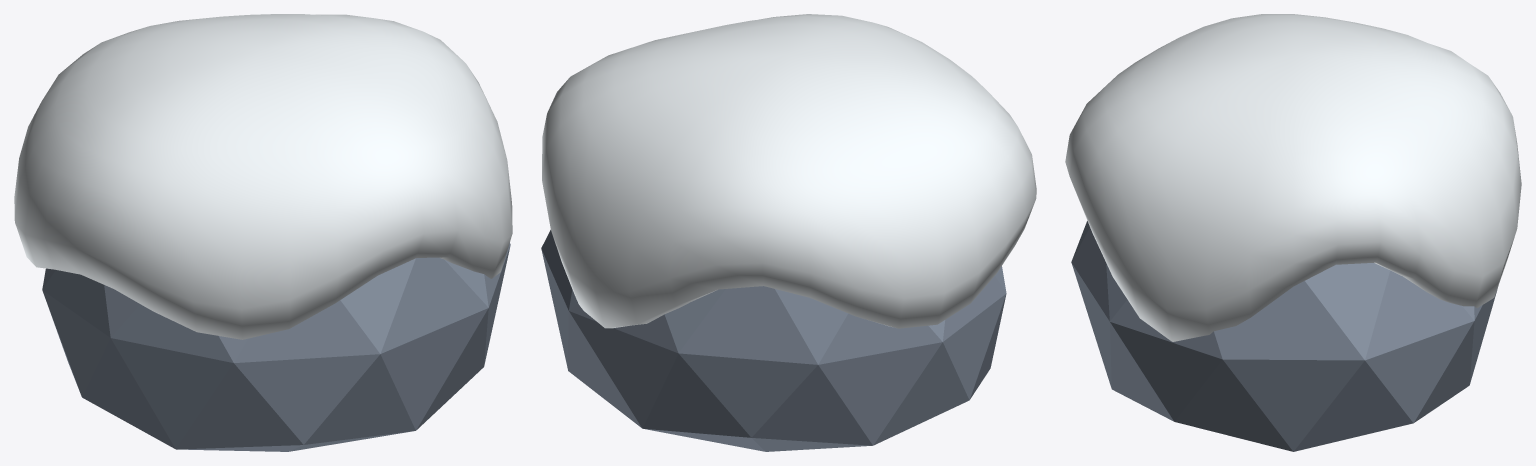
The model's file is Env_SnowBoulder.glb.
3 renders of one model, left to right at view 1: azimuth 30°, elevation 25°; view 2: azimuth 150°, elevation 25°; view 3: azimuth 270°, elevation 25°, orthographic. The views are drawn at different scales.
Visible parts, largest first — view 1: Env_SnowBoulder_Snow, Env_SnowBoulder_Rock; view 2: Env_SnowBoulder_Snow, Env_SnowBoulder_Rock; view 3: Env_SnowBoulder_Snow, Env_SnowBoulder_Rock.
Part boxes in pixels (x1,y1,x2,y2): Env_SnowBoulder_Snow: (14, 14, 512, 339); Env_SnowBoulder_Rock: (42, 243, 510, 451); Env_SnowBoulder_Snow: (542, 14, 1036, 328); Env_SnowBoulder_Rock: (541, 230, 1006, 451); Env_SnowBoulder_Snow: (1065, 14, 1521, 341); Env_SnowBoulder_Rock: (1071, 221, 1497, 451).
Size of the model in its own units: 0.776 by 0.59 by 0.736.
